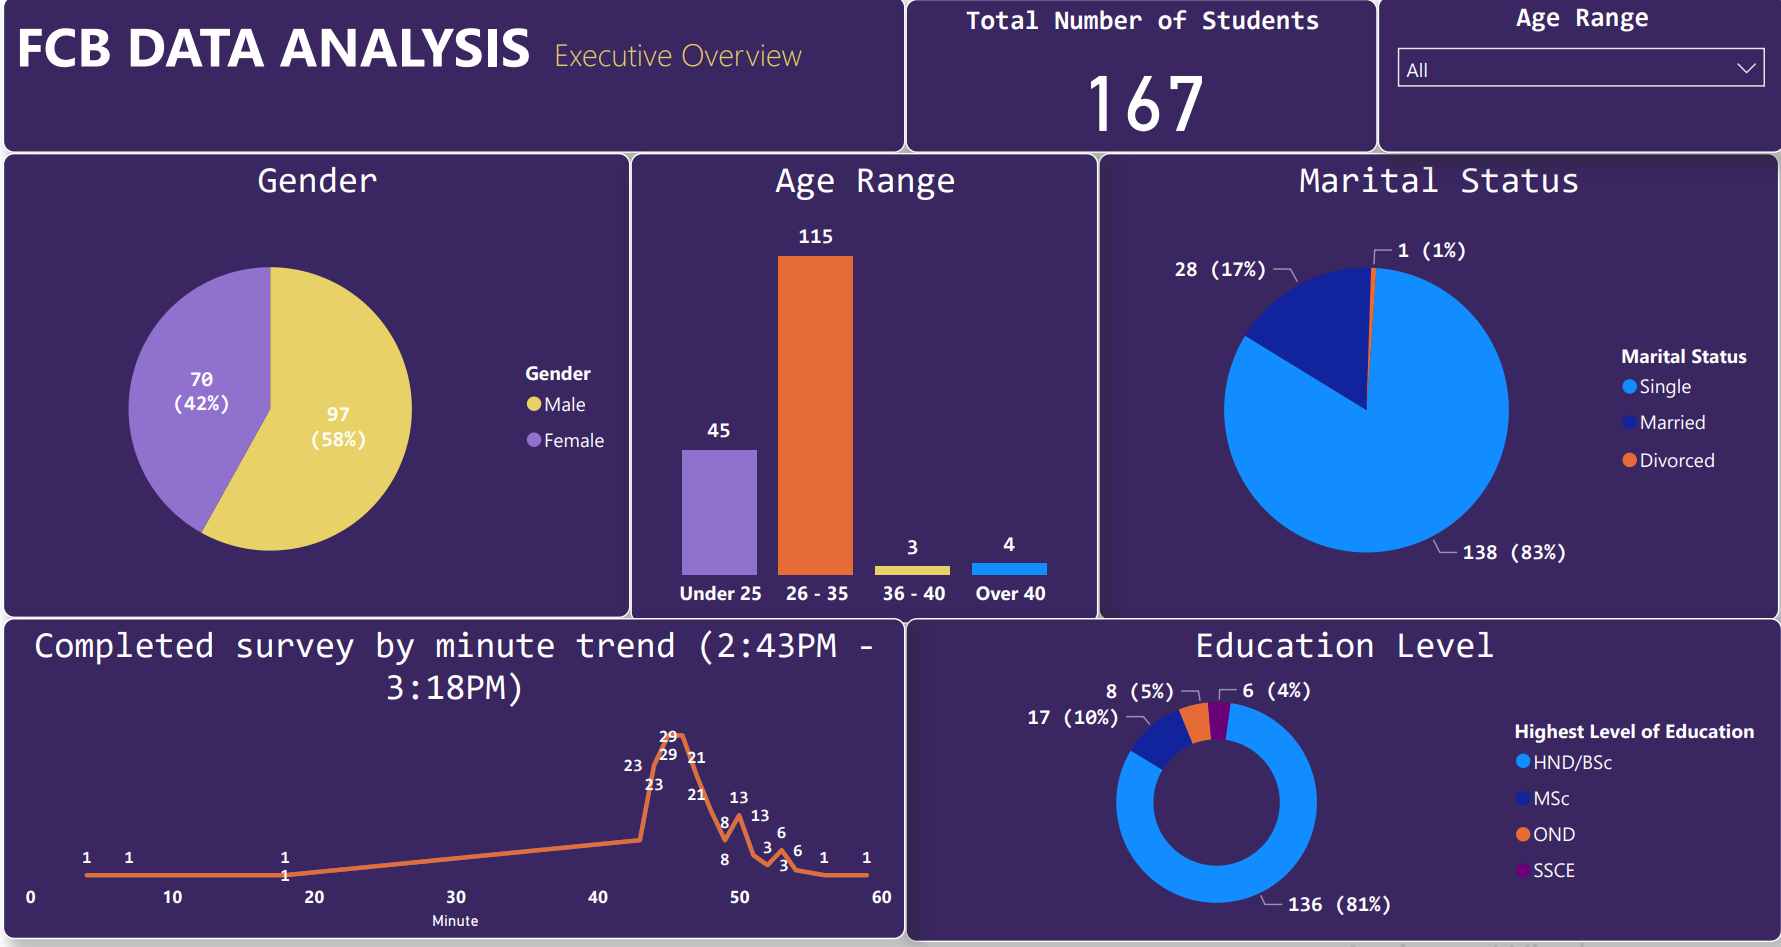

The page's visual inventory and layout, read from the dashboard file:
{"tool":"powerbi","page":{"name":"Executive Overview","canvas":[1280,720],"ordinal":0},"visuals":[{"type":"textbox","box":[14.2,18.9,626.6,108.9],"z":0},{"type":"card","title":"Total Number of Students","fields":{"Values":["Count(Form Responses 1.Full Name (Surname & First Name))"]},"box":[640.8,20.5,328.3,107.3],"z":1000},{"type":"pieChart","title":"Gender","fields":{"Category":["Form Responses 1.Gender"],"Y":["CountNonNull(Form Responses 1.Gender)"]},"box":[14.2,127.8,435.6,323.6],"z":2000},{"type":"pieChart","title":"Marital Status","fields":{"Category":["Form Responses 1.Marital Status"],"Y":["CountNonNull(Form Responses 1.Marital Status)"]},"box":[774.9,127.8,473.5,325.1],"z":3000},{"type":"slicer","title":"Age Range","fields":{"Values":["Form Responses 1.Age Range"]},"box":[969,21,279,108],"z":4000},{"type":"clusteredColumnChart","title":"Age Range","fields":{"Category":["Form Responses 1.Age Range"],"Y":["Count(Form Responses 1.Name)"]},"box":[449.8,127.8,325.1,326.7],"z":5000},{"type":"donutChart","title":"Education Level","fields":{"Category":["Form Responses 1.Highest Level of Education"],"Y":["CountNonNull(Form Responses 1.Highest Level of Education)"]},"box":[640.8,451.4,609.2,224.1],"z":6000},{"type":"lineChart","title":"Completed survey by minute trend (2:43PM - 3:18PM)","fields":{"Y":["Count(Form Responses 1.Name)"],"Y2":["Count(Form Responses 1.Timestamp)"],"Category":["Form Responses 1.Minute"]},"box":[14.2,451.4,626.6,222.5],"z":6001}]}

Visuals, with their boxes on the page's 1280x720 design canvas (x1, y1, x2, y2). These are canvas units, not pixel positions in the 1781x947 screenshot, which may show the page scaled, cropped or inside an application window:
textbox: select_region(14, 19, 641, 128)
"Total Number of Students" card: select_region(641, 20, 969, 128)
"Gender" pieChart: select_region(14, 128, 450, 451)
"Marital Status" pieChart: select_region(775, 128, 1248, 453)
"Age Range" slicer: select_region(969, 21, 1248, 129)
"Age Range" clusteredColumnChart: select_region(450, 128, 775, 454)
"Education Level" donutChart: select_region(641, 451, 1250, 676)
"Completed survey by minute trend (2:43PM - 3:18PM)" lineChart: select_region(14, 451, 641, 674)
